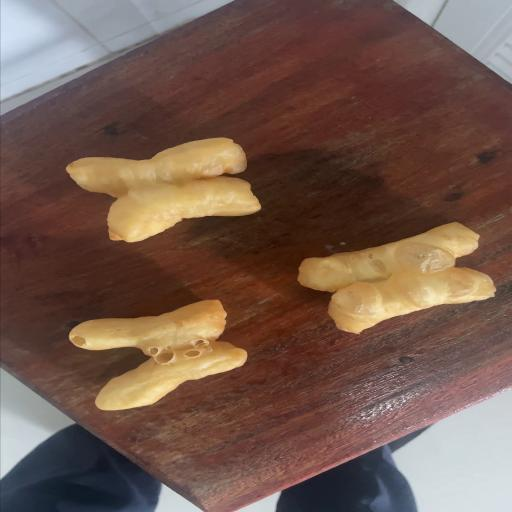street_golden_defect: (298, 224, 494, 333), (68, 301, 246, 409)
street_golden_good: (66, 140, 262, 242)
